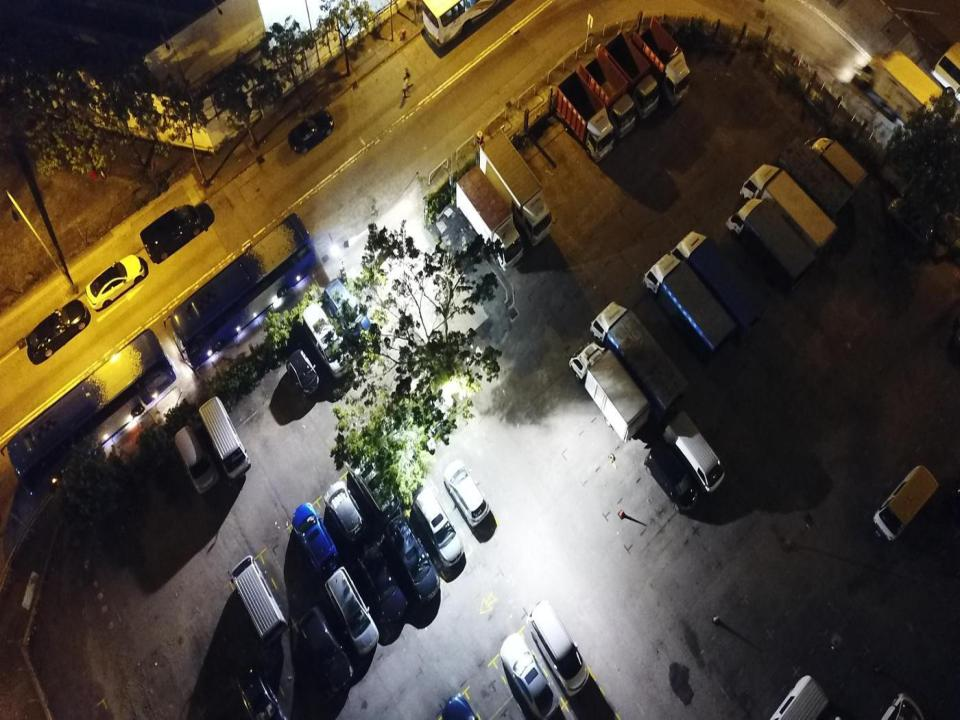bus: (8, 328, 176, 496), (169, 214, 316, 372)
car: (500, 631, 561, 718), (324, 567, 380, 656), (299, 606, 354, 693), (358, 543, 408, 624), (26, 300, 89, 361), (85, 254, 146, 312), (291, 502, 338, 576), (444, 459, 490, 524), (237, 663, 290, 719), (323, 480, 370, 542), (288, 108, 333, 154), (287, 348, 322, 398)
truck: (590, 300, 688, 420), (670, 229, 769, 342), (644, 252, 736, 363), (741, 162, 839, 265), (479, 125, 552, 248), (861, 48, 953, 144), (727, 198, 818, 294), (569, 340, 650, 440), (456, 166, 524, 270), (777, 138, 856, 227), (554, 69, 614, 162), (632, 15, 691, 108), (579, 49, 636, 140), (603, 30, 659, 119), (810, 137, 869, 197)
van: (526, 598, 589, 696), (662, 408, 725, 494), (872, 463, 938, 541), (230, 555, 287, 645), (385, 513, 441, 604), (199, 394, 252, 479), (345, 445, 400, 521), (414, 484, 464, 566), (302, 300, 353, 380), (644, 439, 698, 512), (140, 203, 201, 263), (322, 277, 373, 347), (174, 423, 219, 496), (762, 674, 829, 719)
